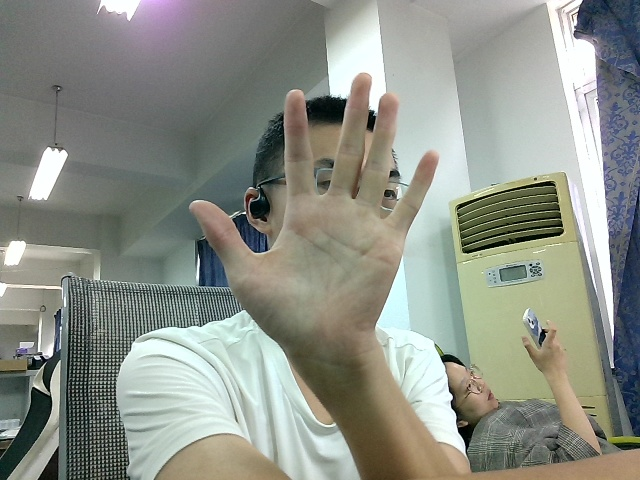paper: (188, 60, 451, 405)
